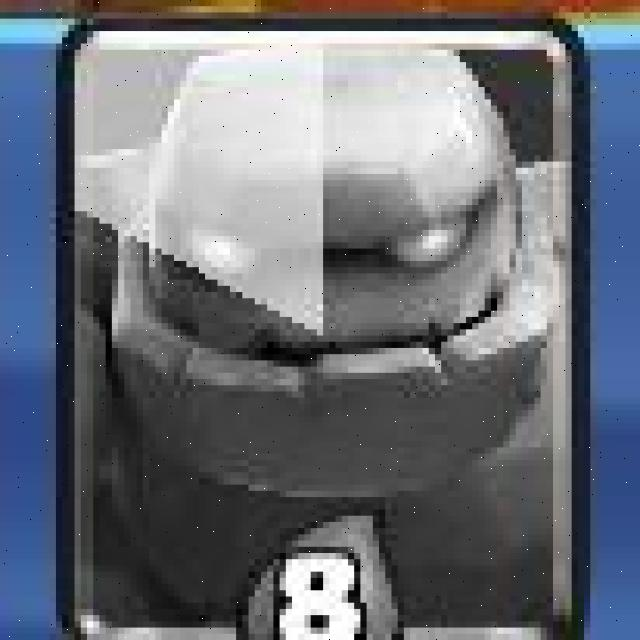Golem: (58, 15, 588, 640)
